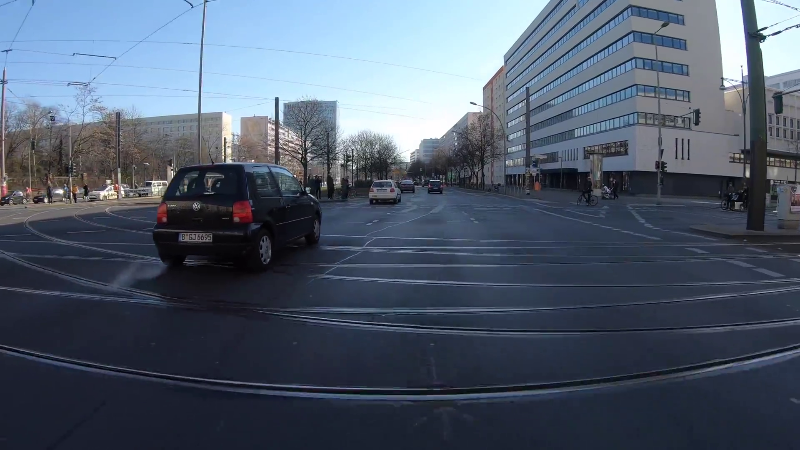Plate: (177, 230, 214, 244), (376, 187, 389, 193)
